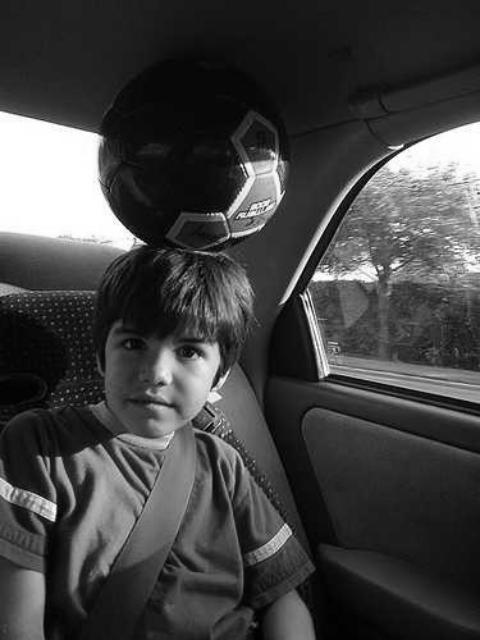SafeDriving: (169, 332, 216, 368), (111, 324, 155, 360)
Seatbelt: (78, 416, 206, 640)
